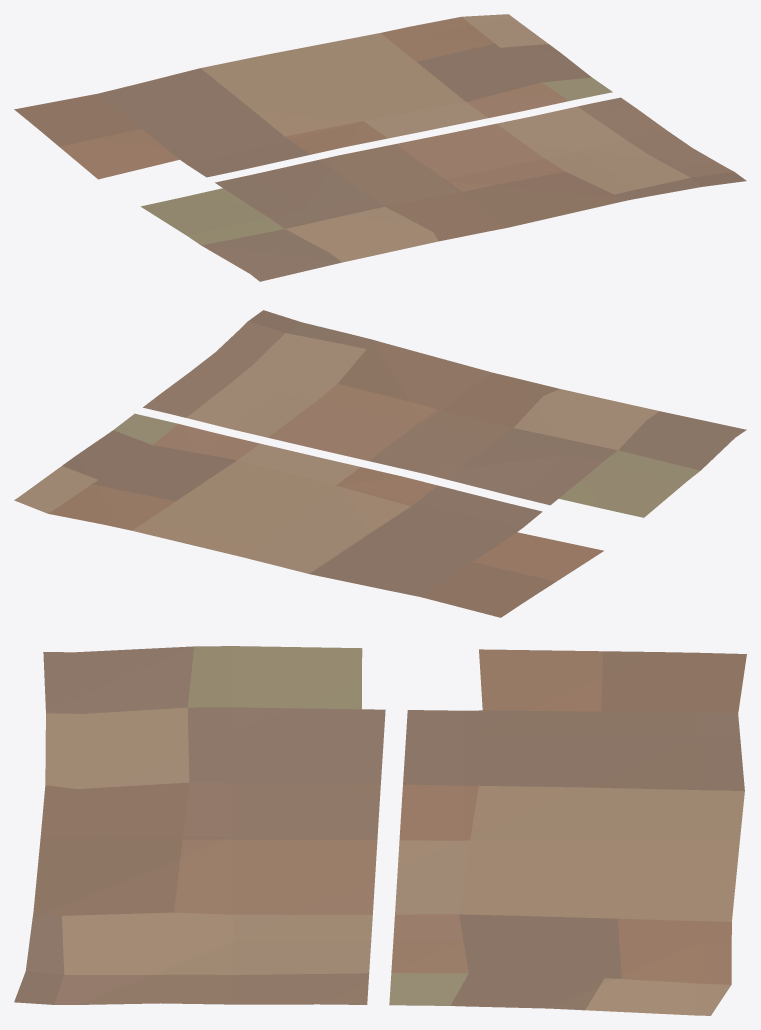
The model's file is farm_5_10_soil.glb.
3 renders of one model, top to bottom at view 1: azimuth 30°, elevation 25°; view 2: azimuth 150°, elevation 25°; view 3: azimuth 270°, elevation 25°, orthographic. The views are drawn at different scales.
Visible parts, largest first — view 1: geometry_0; view 2: geometry_0; view 3: geometry_0.
Part boxes in pixels (x1=…): geometry_0: x1=14, y1=14, x2=746, y2=281; geometry_0: x1=14, y1=310, x2=746, y2=617; geometry_0: x1=14, y1=646, x2=746, y2=1015.
Size of the model in its own units: 284 by 9.47 by 252.
